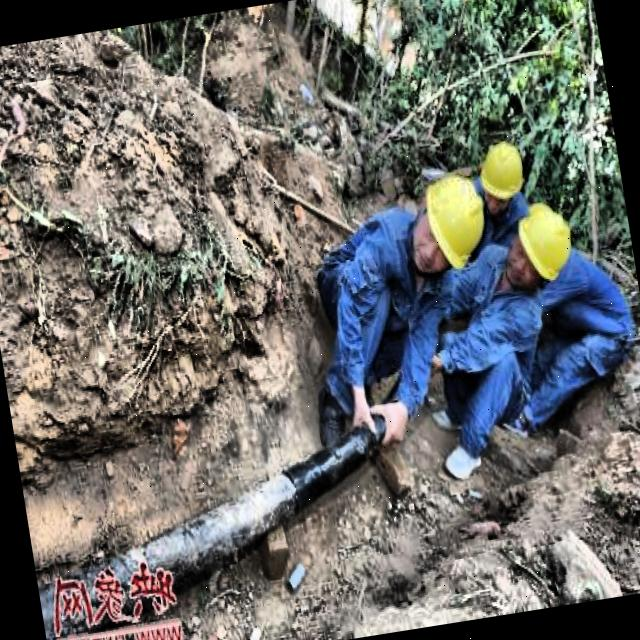helmet: (404, 166, 497, 281), (500, 198, 584, 297), (472, 134, 533, 216)
